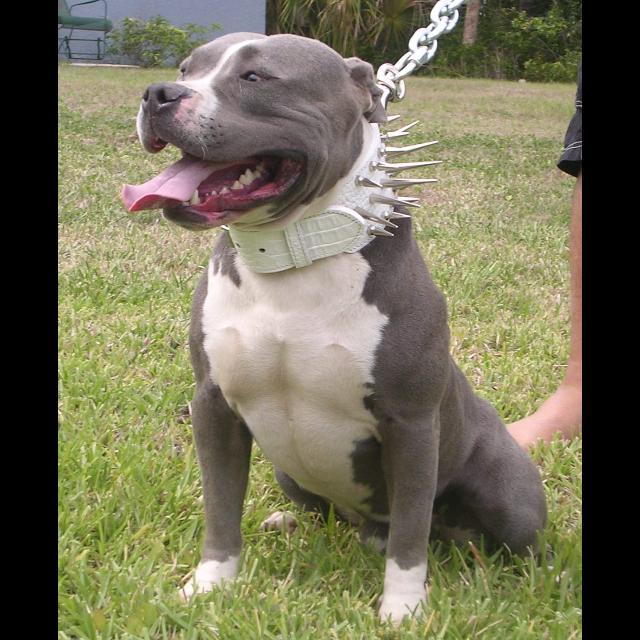am_pit_bull_terrier: (124, 32, 557, 631)
